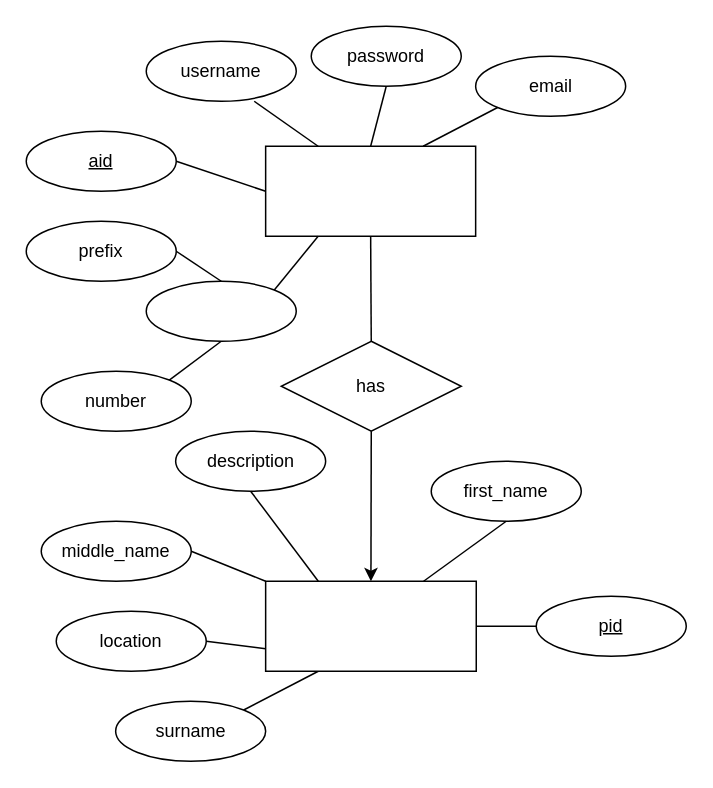
Some shapes in this 713 by 788 pixel diagram are drawn without their labels. Here are the shapes that lost their labels. From the top down, the centre of each, then its label:
pixel 370 190: Accounts
pixel 220 310: phone
pixel 370 625: Profiles
